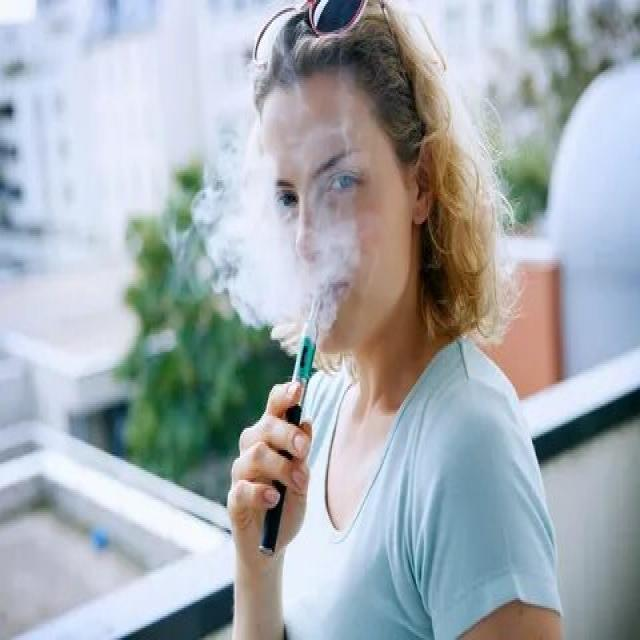smoke: (257, 288, 328, 570)
